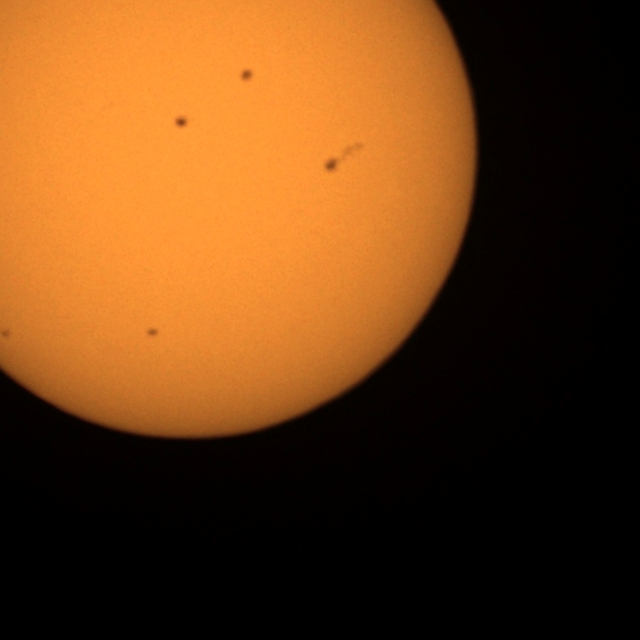sunspot: (324, 142, 365, 176), (238, 67, 255, 84), (172, 114, 190, 130), (145, 326, 160, 340), (0, 327, 13, 341)
